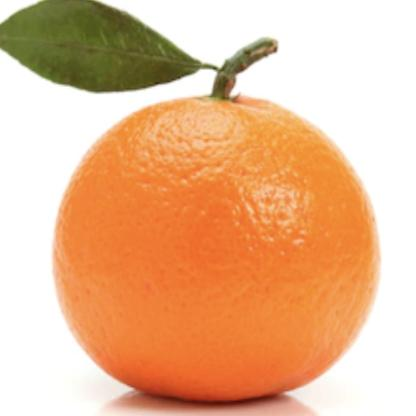fresh: (51, 63, 382, 401)
